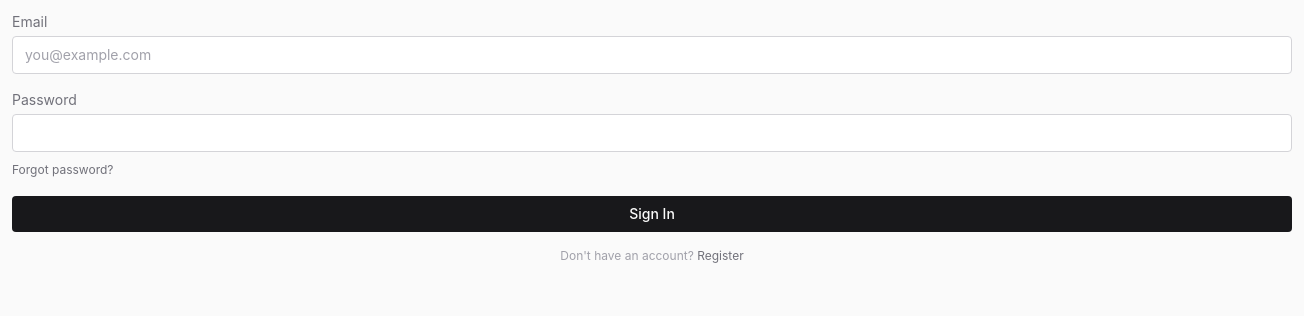
Test: LoginForm › falls back to the raw error message for unknown error codes
The image size is (1304, 316).
Type "me@example.com" into the field labelled "Email" at (652, 55), box [12,36,1292,74]
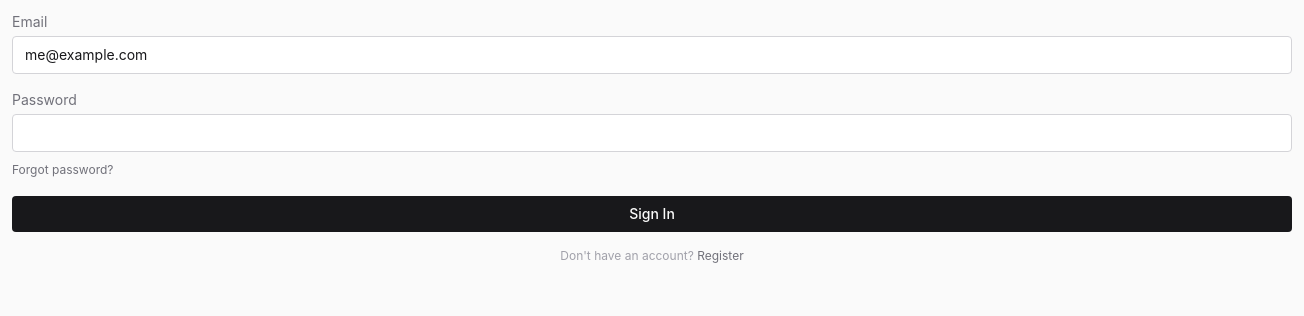
Type "secret123" into the password field labelled "Password" at (652, 133), box [12,114,1292,152]
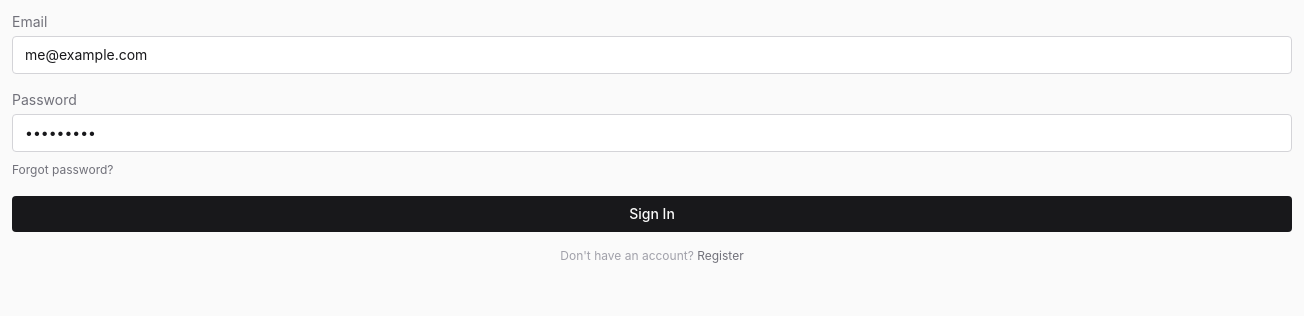
Click the button "Sign In" at (652, 214), box [12,196,1292,232]
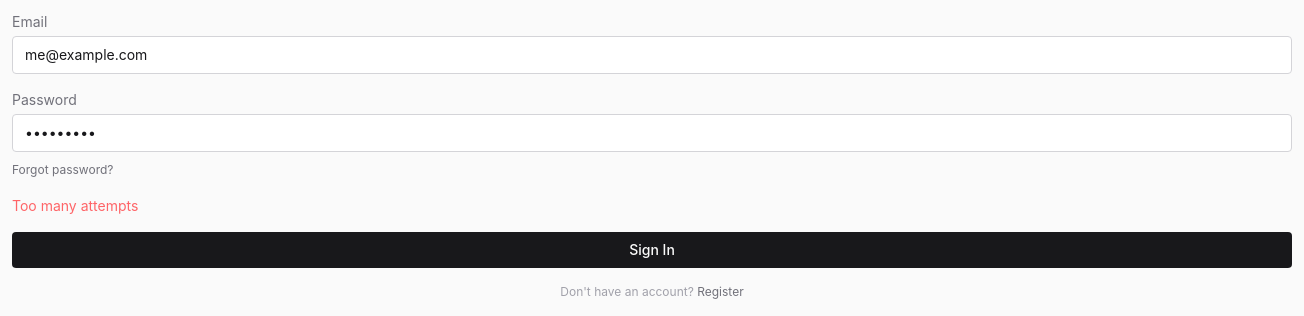
Result: the text "Too many attempts" is shown at [12,197,138,214]
